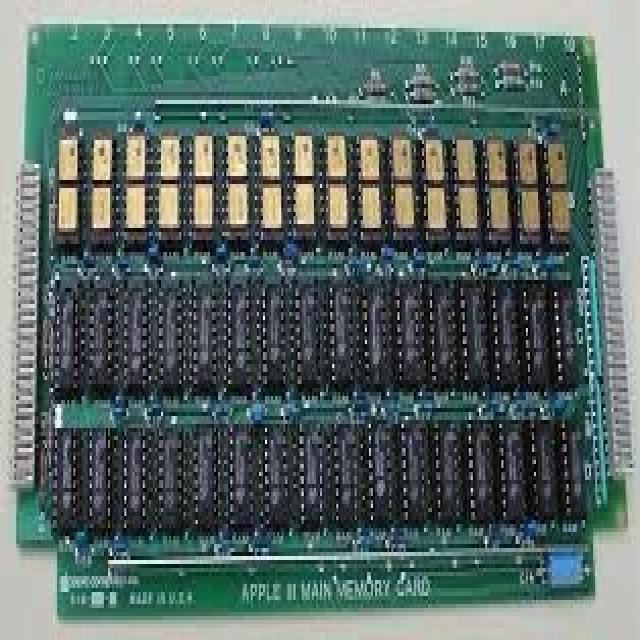Ram: (19, 43, 614, 627)
